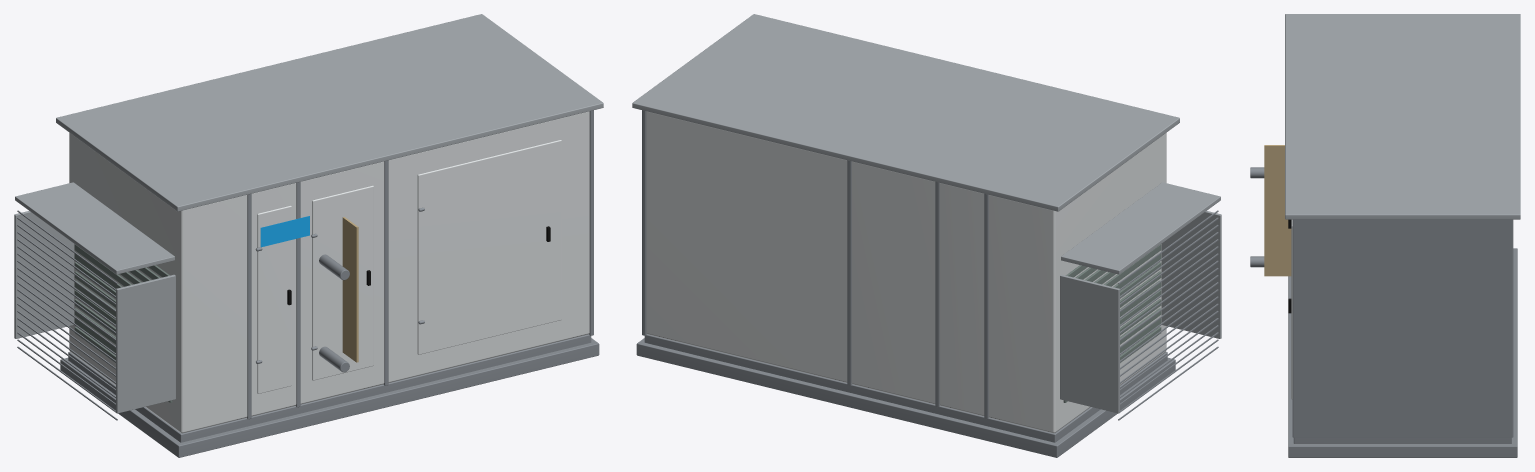
The model's file is oau.glb.
3 views of the same model, side by side, from view 1: azimuth 30°, elevation 25°; view 2: azimuth 150°, elevation 25°; view 3: azimuth 270°, elevation 25° (orthographic). The views are drawn at different scales.
Parts seen in each view (by area): view 1: casing, weather, screen; view 2: casing, weather; view 3: casing, weather.
Boxes of the visible parts, x1,y1,x2,y2 form: casing: (68, 110, 593, 442); weather: (14, 14, 603, 457); screen: (260, 216, 309, 247); casing: (642, 110, 1167, 442); weather: (632, 14, 1221, 457); casing: (1250, 145, 1513, 443); weather: (1285, 14, 1520, 457).
Size of the model in its own units: 4.88 by 2.47 by 2.48.
